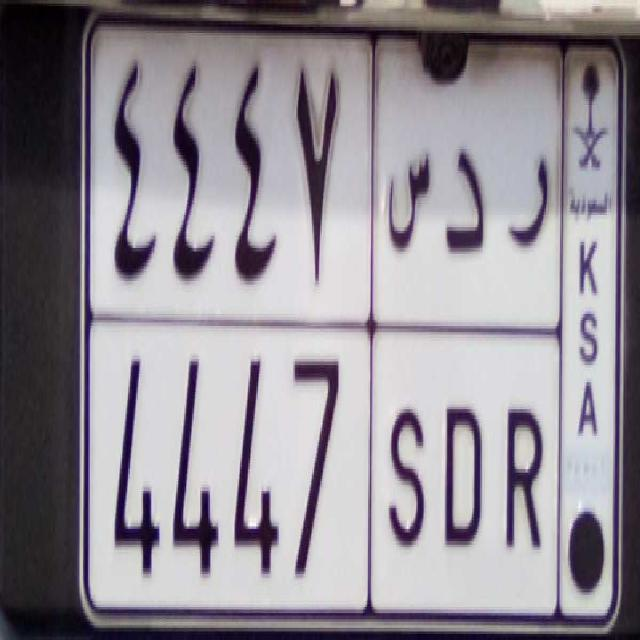license_plate: (87, 305, 560, 627)
